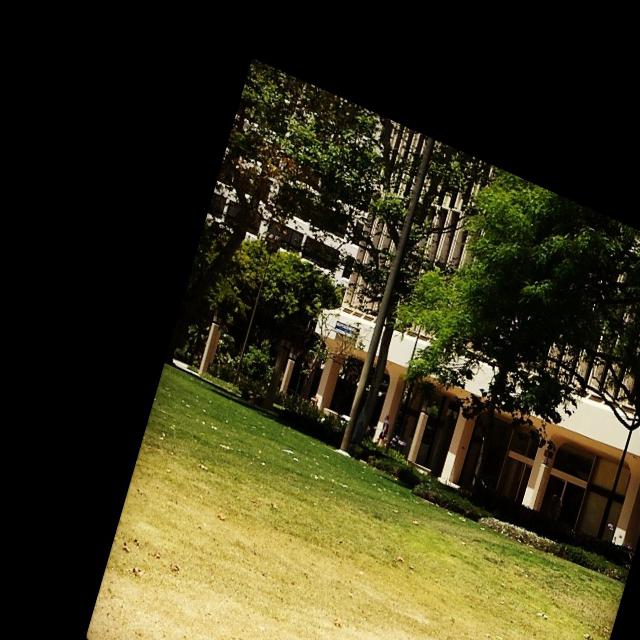patch: (164, 476, 315, 640), (345, 537, 462, 618), (487, 569, 545, 640), (118, 549, 155, 616)
